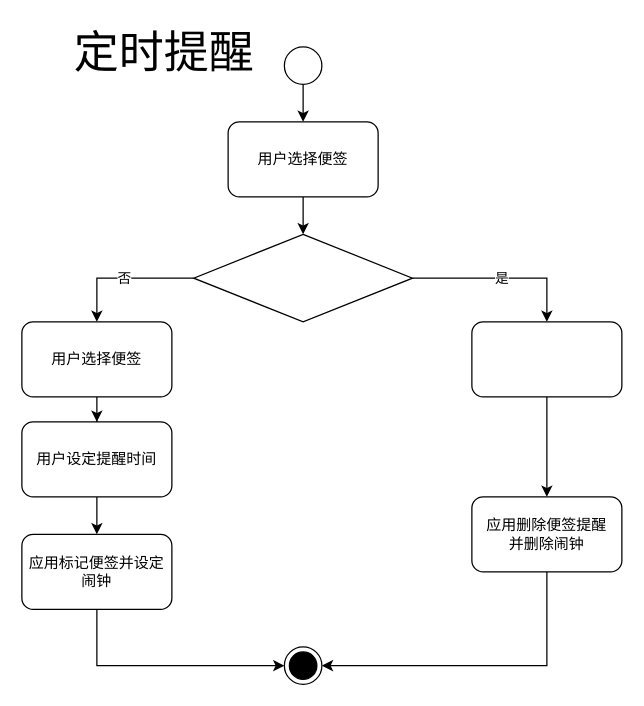
Some shapes in this 644 by 706 pixel diagram are drawn without their labels. The centre of each missing label's shape, as x and y in pixels:
"便签是否存在定时提醒" belongs at (x=302, y=277).
"用户点击删除提醒" belongs at (x=546, y=359).
